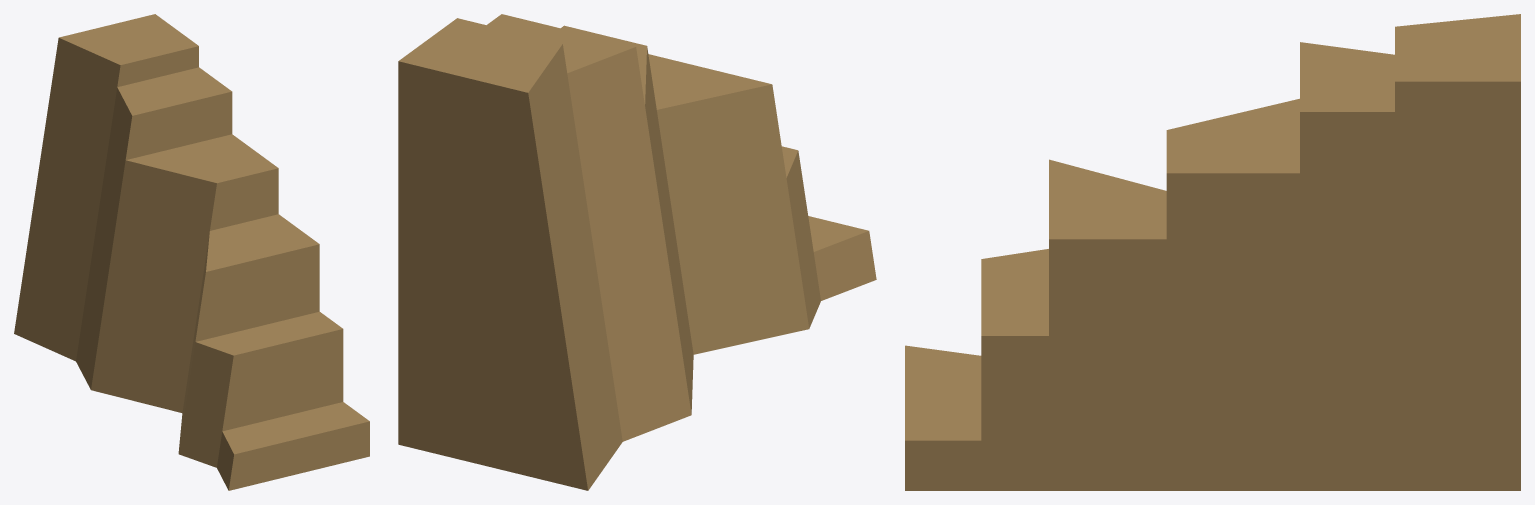
The model's file is naturePack_124.obj.
3 renders of one model, left to right at view 1: azimuth 30°, elevation 25°; view 2: azimuth 150°, elevation 25°; view 3: azimuth 270°, elevation 25°, orthographic. The views are drawn at different scales.
Parts seen in each view (by area): view 1: Mesh1_Brown_Cliff_End_Model; view 2: Mesh1_Brown_Cliff_End_Model; view 3: Mesh1_Brown_Cliff_End_Model.
Part boxes in pixels (<box>): Mesh1_Brown_Cliff_End_Model: <box>14,14,369,490</box>; Mesh1_Brown_Cliff_End_Model: <box>398,14,876,490</box>; Mesh1_Brown_Cliff_End_Model: <box>905,14,1520,490</box>.
Bounding box in the file's own units: 1.14 × 2.2 × 3.
